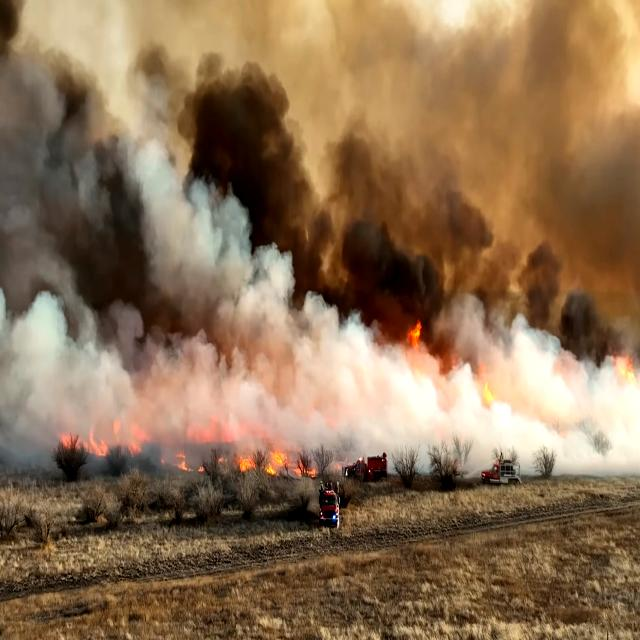smoke: (0, 86, 338, 275), (72, 164, 324, 386), (287, 280, 537, 374)
